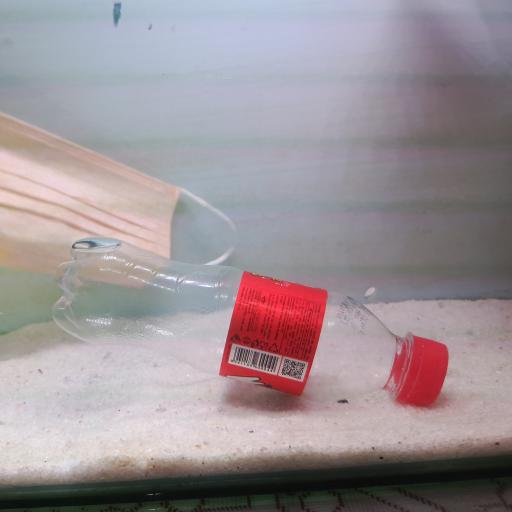bottle_cap: (398, 334, 454, 410)
mask: (0, 107, 241, 281)
plastic_bottle: (50, 234, 451, 408)
